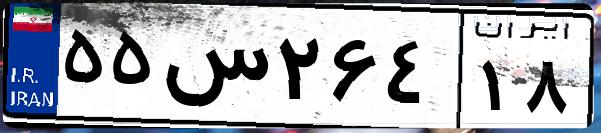1: (475, 38, 525, 113)
2: (270, 28, 330, 110)
4: (385, 28, 445, 110)
5: (57, 26, 110, 100), (110, 28, 158, 98)
6: (330, 28, 385, 110)
8: (525, 38, 570, 115)
س: (158, 20, 270, 120)
